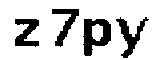7: (51, 6, 81, 53)
p: (82, 17, 113, 60)
y: (115, 15, 150, 60)
z: (8, 17, 43, 51)
